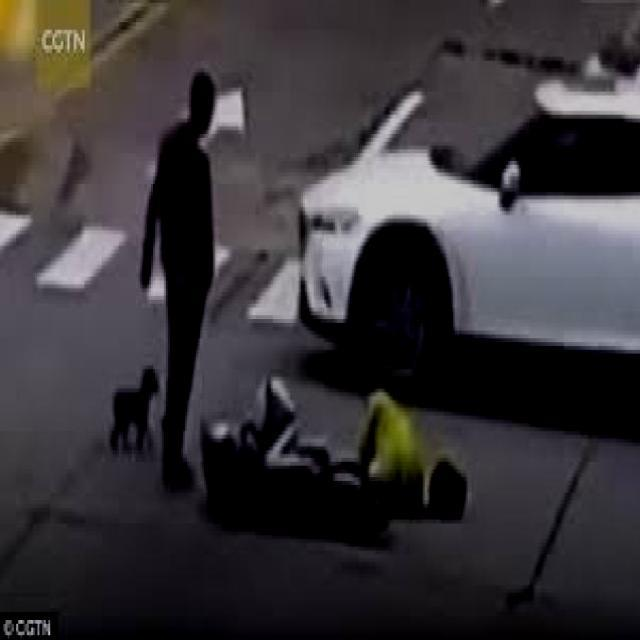accident: (184, 350, 428, 572)
